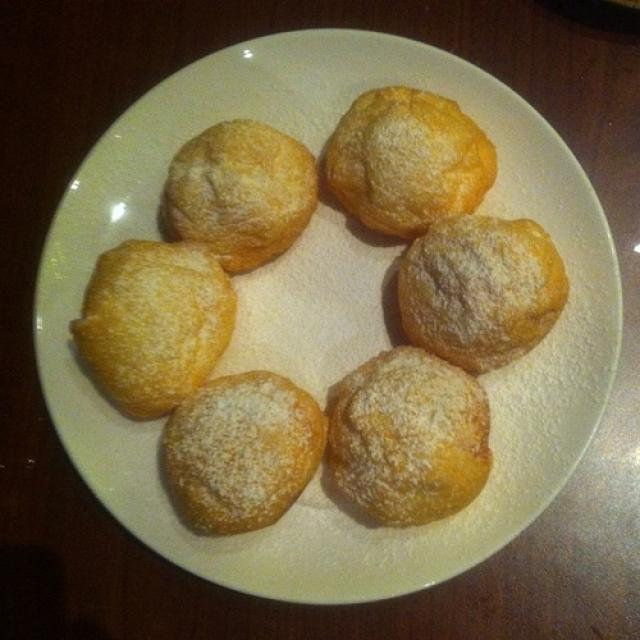炸货点心: (22, 28, 617, 611)
蛋糕甜品: (22, 28, 617, 611)
